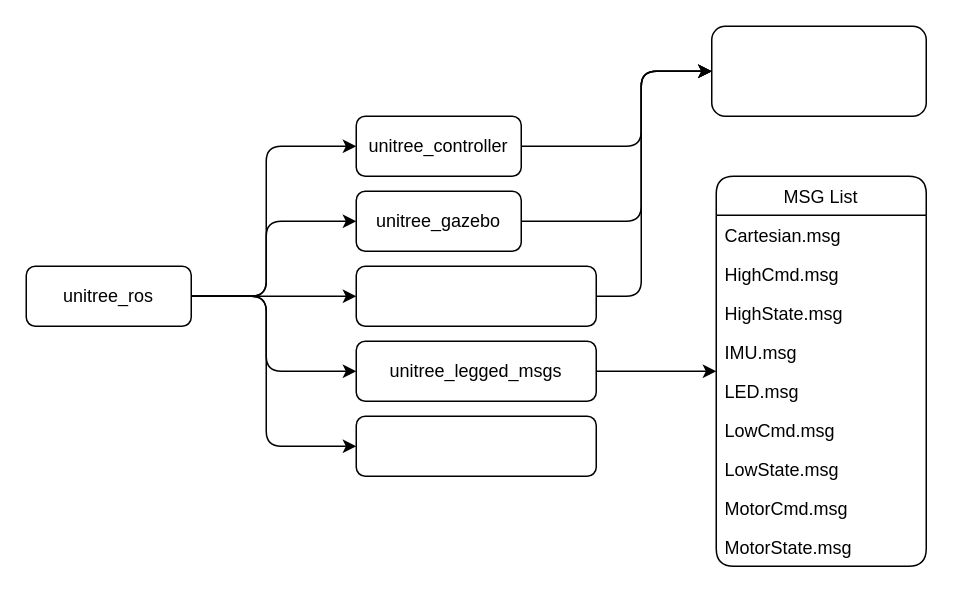
This 953x597 diagram has some shape labels left out. The centre of each missing label's shape, as x and y in pixels:
"unitree_legged_control" goes at point 475,295.
"unitree_legged_real" goes at point 475,445.
"只有Gazebo的控制，可以说是几乎没法用 or 没用" goes at point 818,70.
